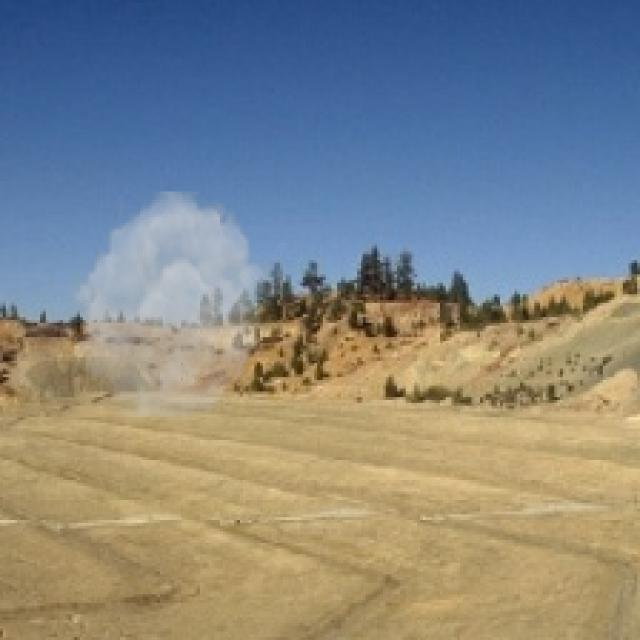smoke: (66, 192, 274, 417)
